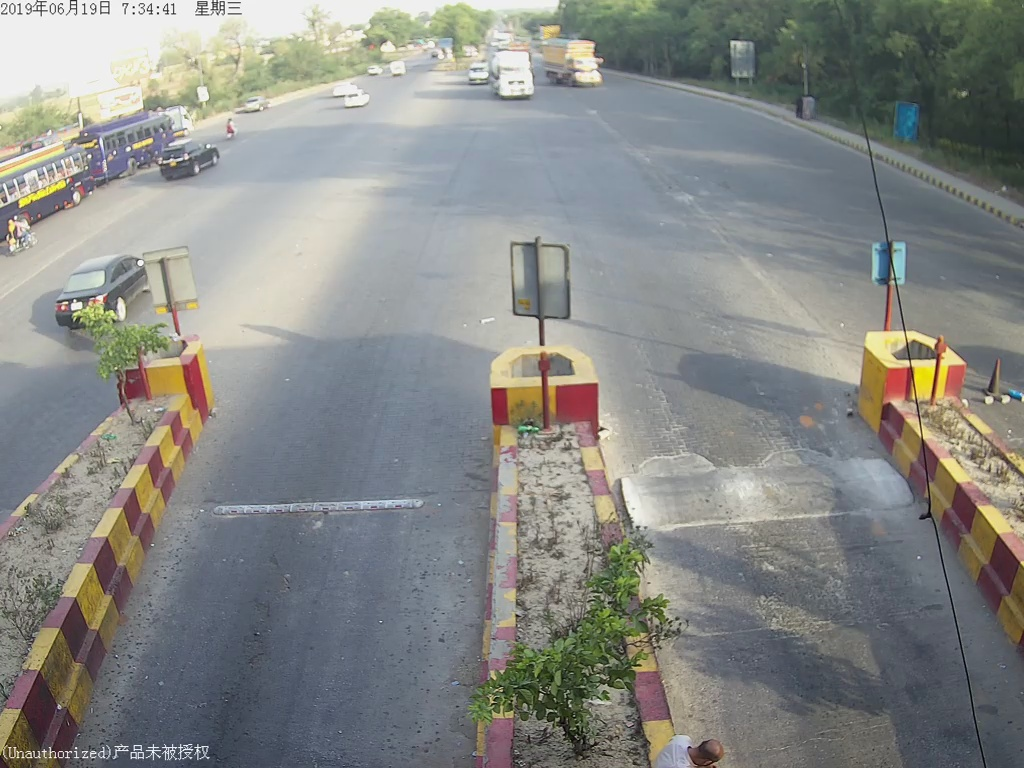Cat-4: (492, 51, 541, 95)
